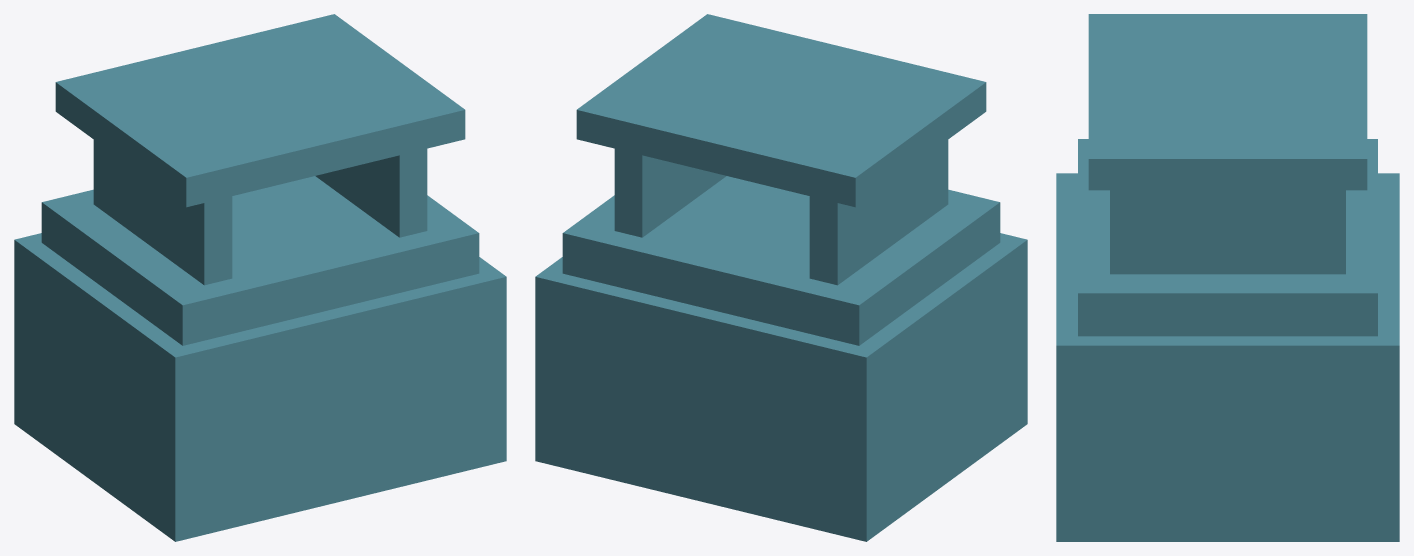
Rendered from poacher.glb.
3 views of the same model, side by side, from view 1: azimuth 30°, elevation 25°; view 2: azimuth 150°, elevation 25°; view 3: azimuth 270°, elevation 25° (orthographic). The views are drawn at different scales.
Parts seen in each view (by area): view 1: module.poacher; view 2: module.poacher; view 3: module.poacher.
Boxes of the visible parts, x1,y1,x2,y2 form: module.poacher: (14,14,506,541); module.poacher: (535,14,1027,541); module.poacher: (1056,14,1399,541).
Bounding box in the file's own units: 1 × 1 × 0.8421.
